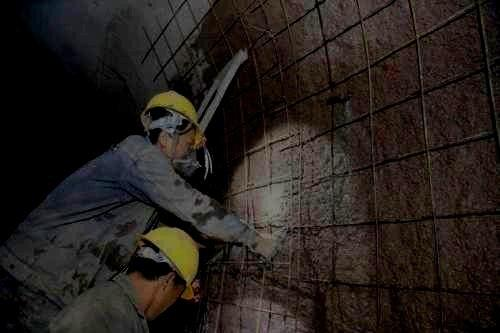helmet: (124, 225, 199, 321), (141, 90, 206, 161)
